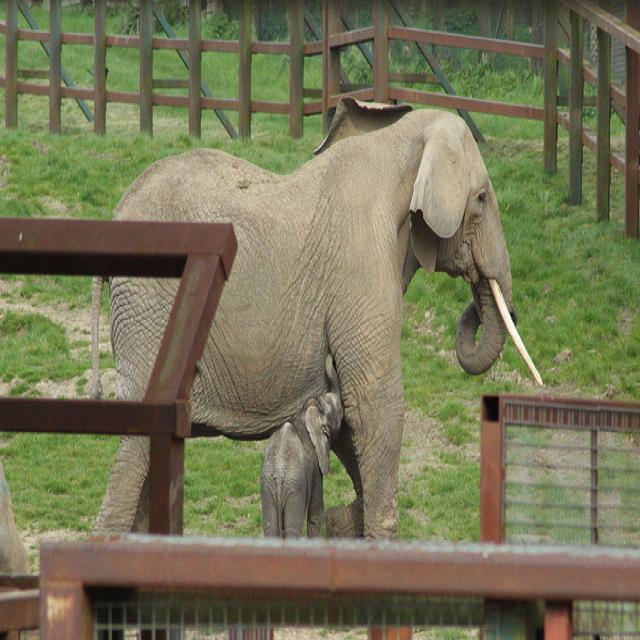Elephant: (89, 96, 544, 541)
